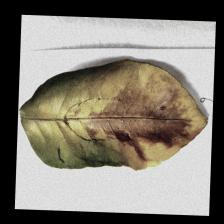black spot: (70, 82, 188, 150)
